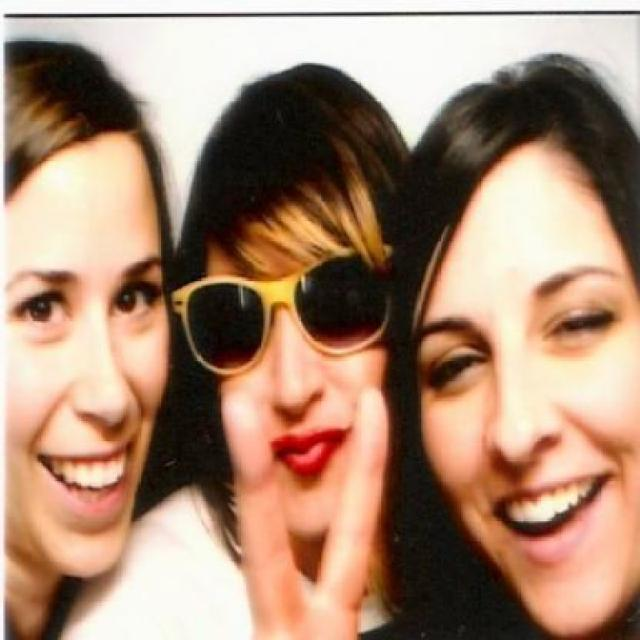face_nomask: (415, 281, 640, 574), (7, 267, 175, 533), (187, 269, 398, 476)
glasses: (168, 252, 394, 382)
hand_noglove: (218, 375, 391, 640)
head_nohelmet: (418, 42, 640, 244), (189, 65, 394, 273), (0, 31, 178, 186)
